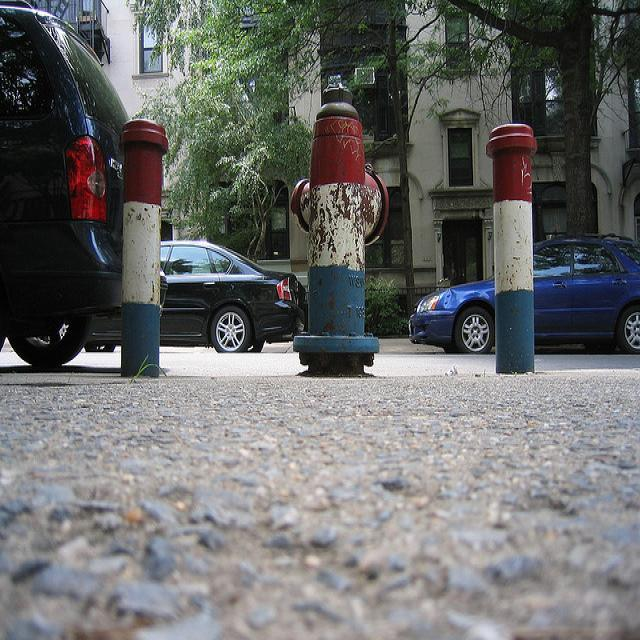fire_hydrant: (289, 72, 388, 376)
